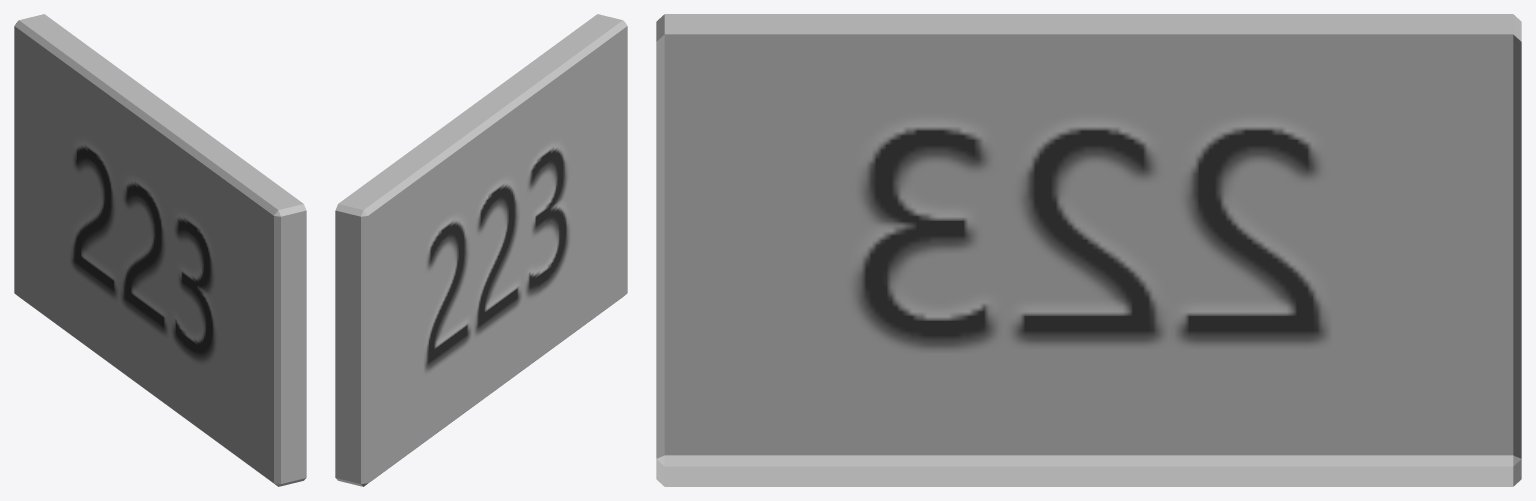
3 renders of one model, left to right at view 1: azimuth 30°, elevation 25°; view 2: azimuth 150°, elevation 25°; view 3: azimuth 270°, elevation 25°, orthographic. The views are drawn at different scales.
Visible parts, largest first — view 1: pCube45; view 2: pCube45; view 3: pCube45.
Boxes of the visible parts, left/top/right/bottom form: pCube45: left=14, top=14, right=306, bottom=486; pCube45: left=335, top=14, right=627, bottom=486; pCube45: left=656, top=14, right=1521, bottom=486.
Size of the model in its own units: 0.8887 by 7.85 by 13.6.
1 material, 1 textured.
